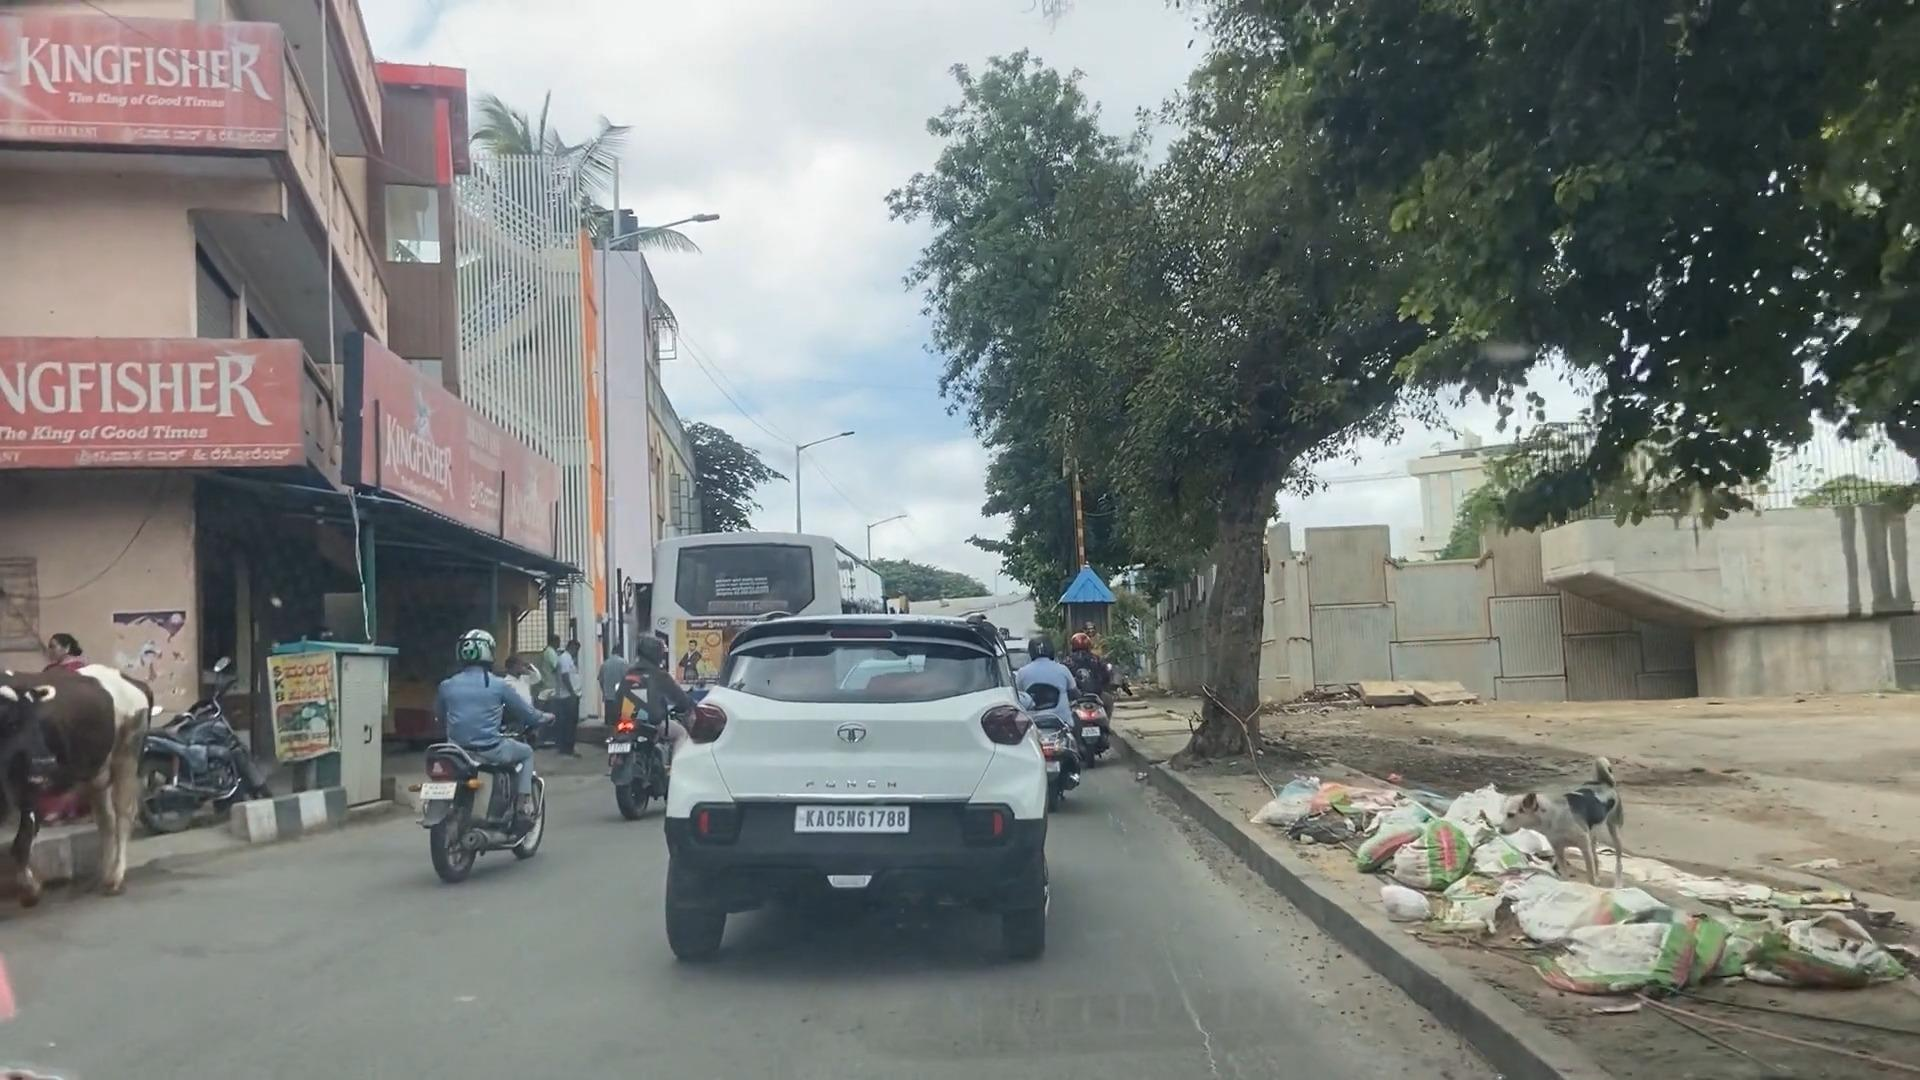LMV: (654, 634, 1039, 931), (426, 618, 551, 865)
